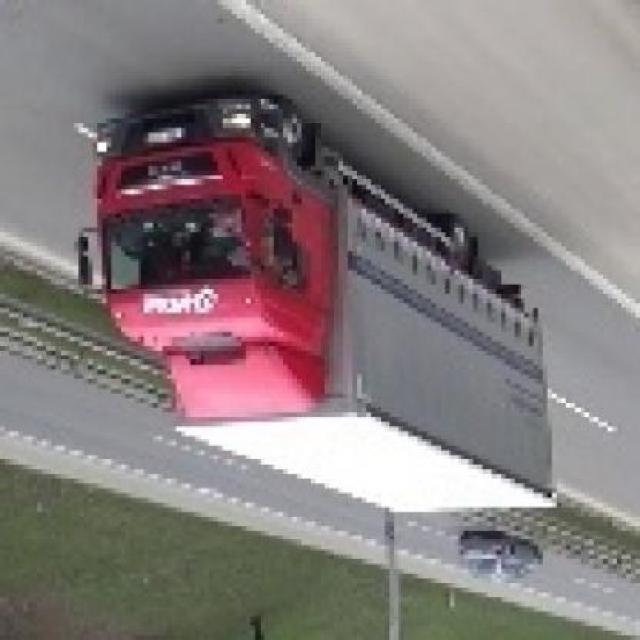truck: (71, 96, 554, 523)
